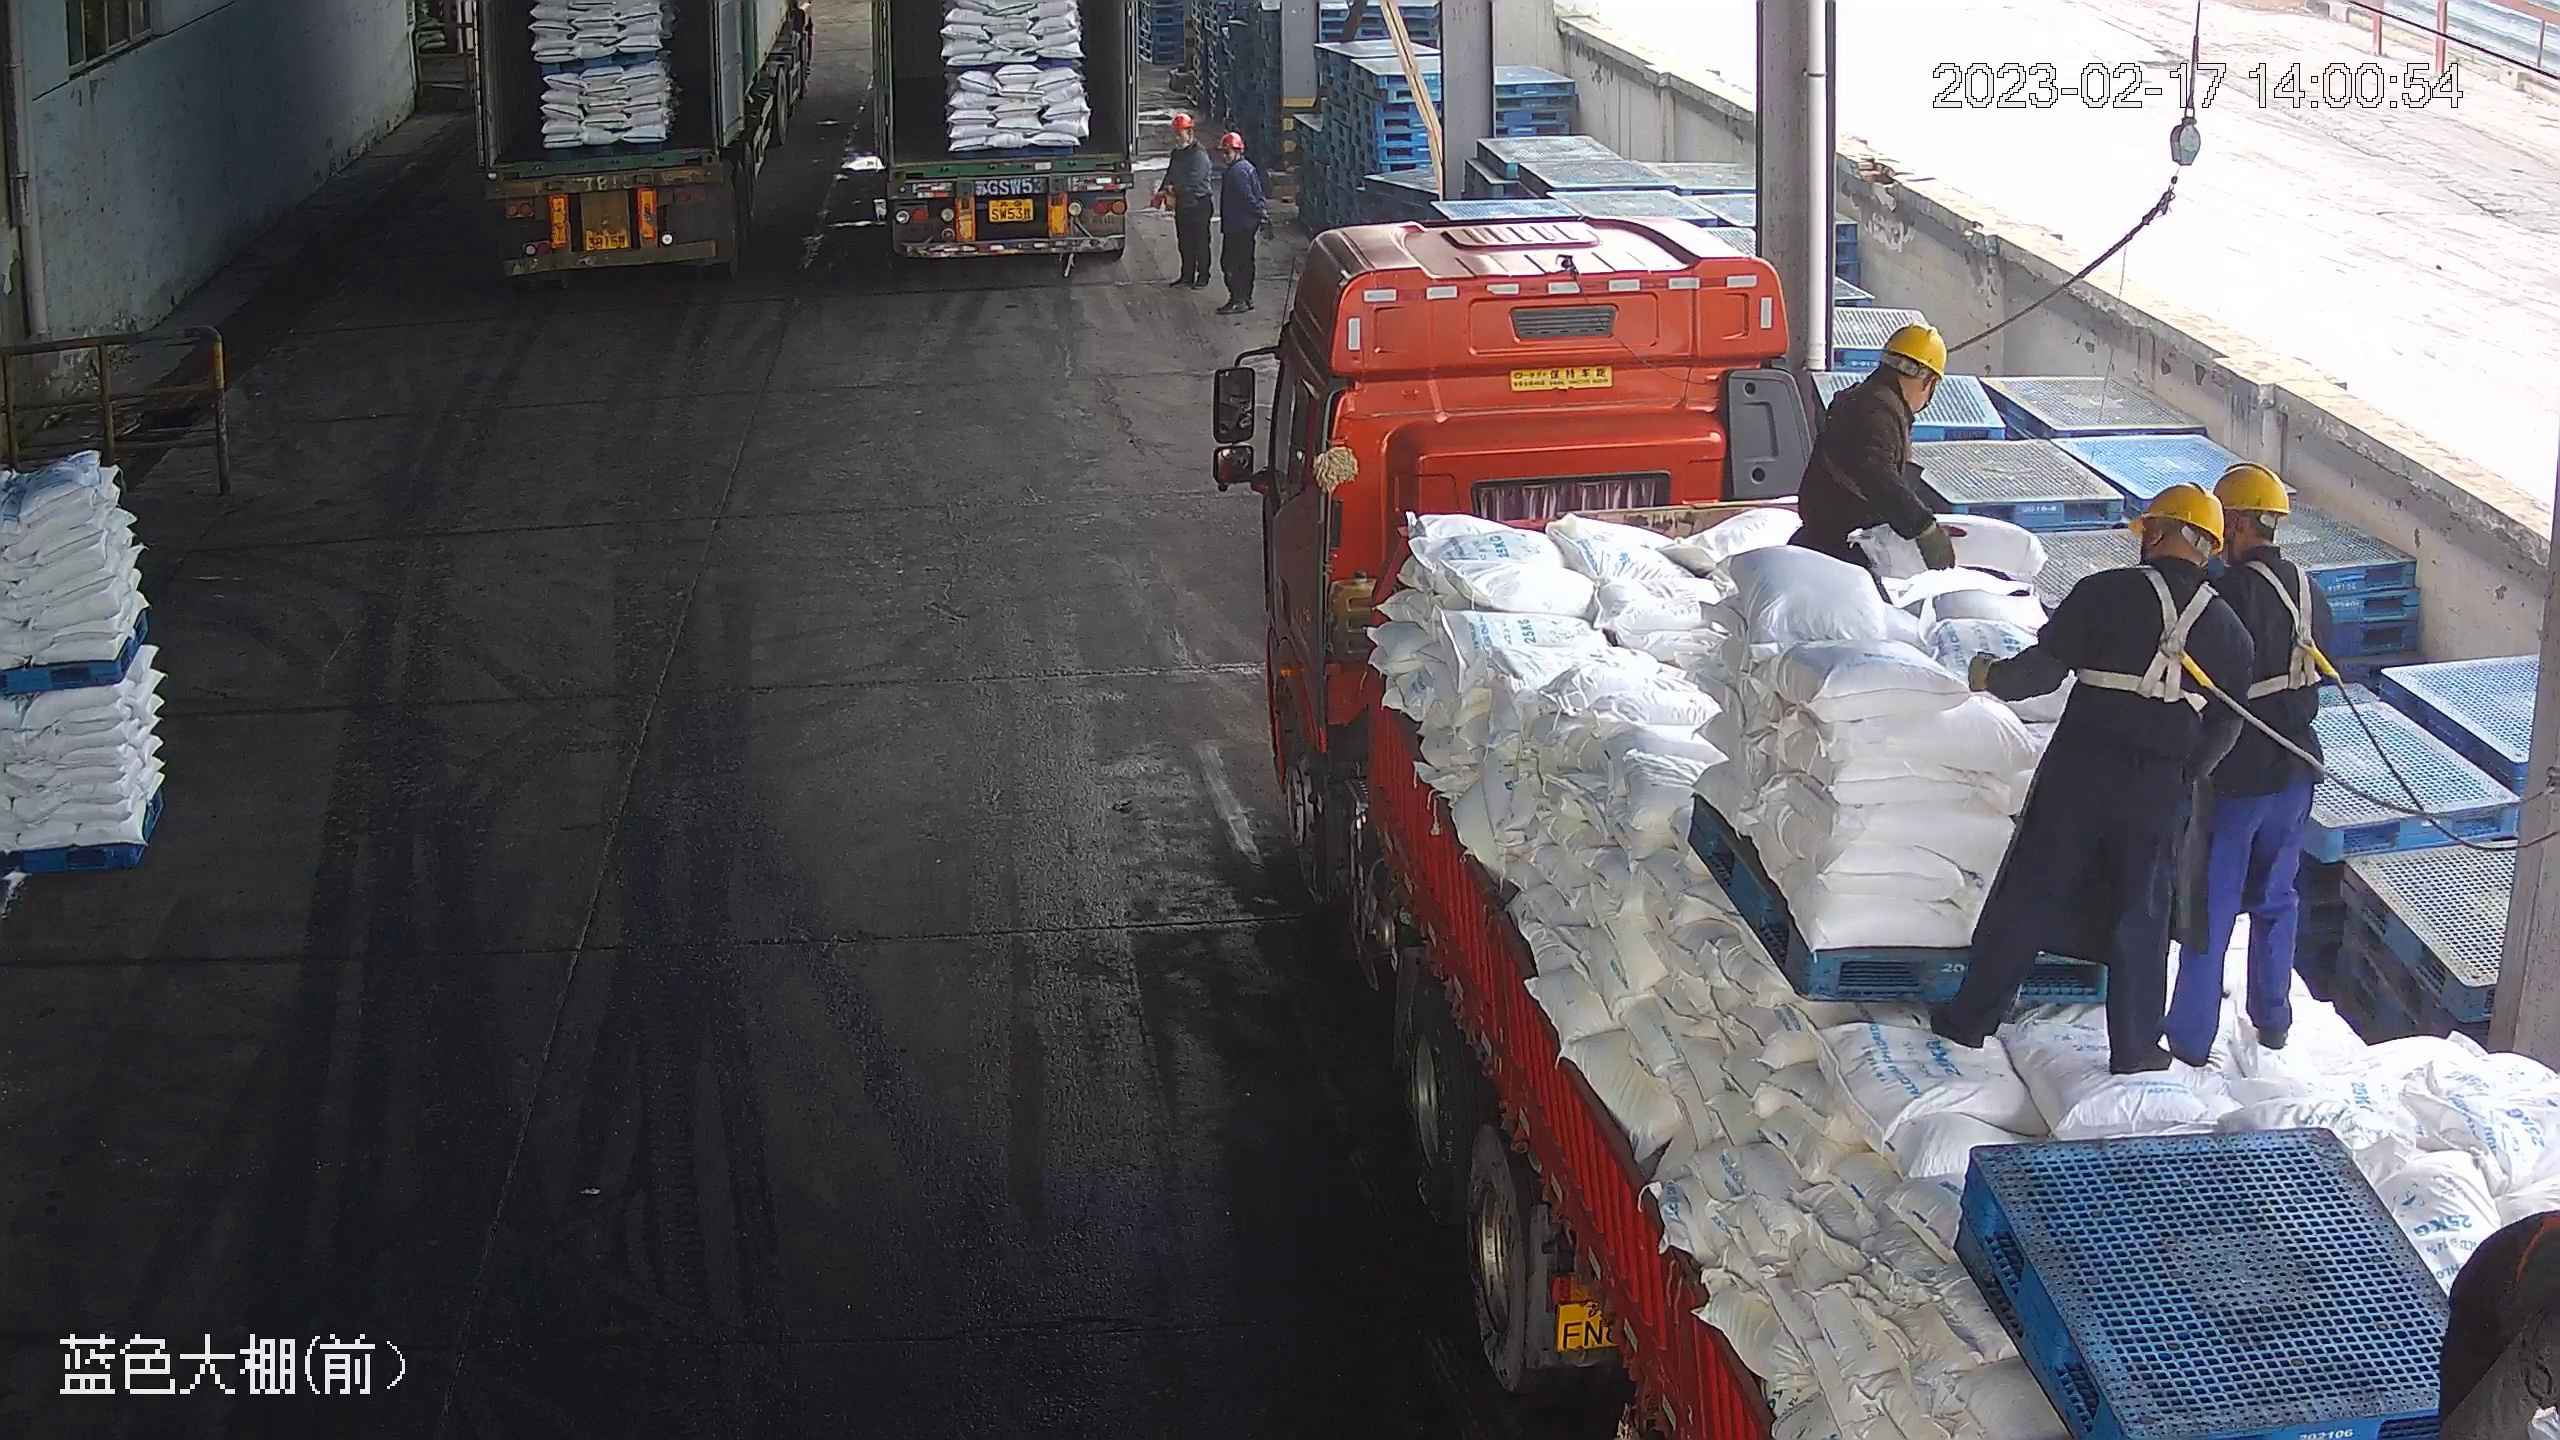belt: (2072, 560, 2232, 725), (2239, 557, 2349, 715), (1819, 376, 1922, 502)
head: (2045, 484, 2256, 698), (1803, 328, 1945, 506), (2206, 462, 2330, 647), (1156, 111, 1209, 180), (1218, 132, 1268, 197)
helmet: (2132, 484, 2227, 549), (2213, 462, 2304, 518), (1881, 323, 1940, 381), (1219, 135, 1247, 159), (1173, 115, 1194, 129)
people: (1927, 481, 2256, 1069), (2164, 459, 2332, 1093), (1215, 130, 1278, 318), (1151, 110, 1212, 291)
truck: (1213, 215, 2560, 1440), (466, 1, 820, 308), (861, 1, 1145, 284)
